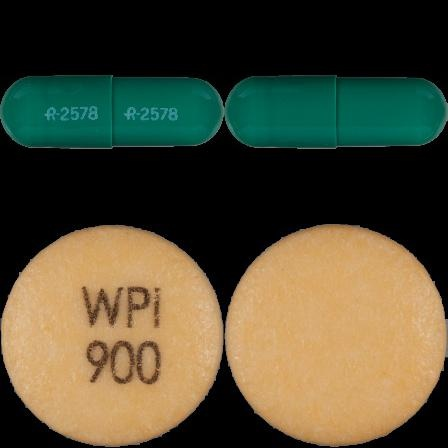70786-0831: (0, 0, 224, 224)
